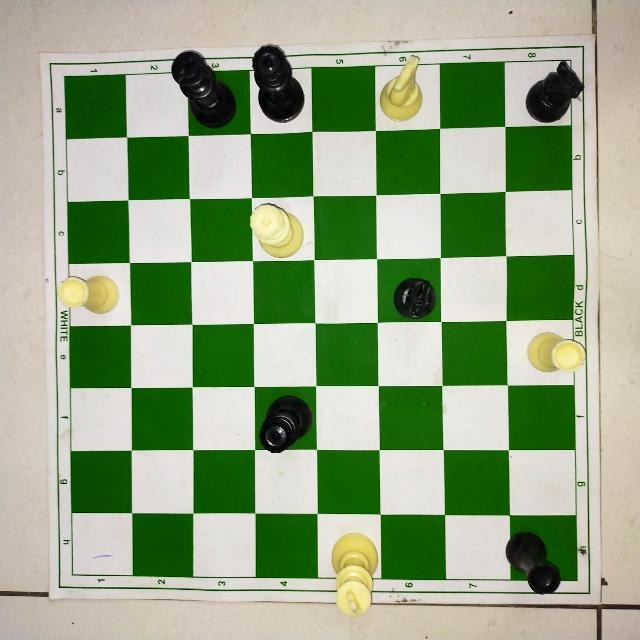black-king: (170, 48, 236, 132)
black-knight: (523, 59, 585, 125), (391, 274, 439, 324)
black-queen: (251, 40, 307, 123), (259, 392, 315, 458)
black-rook: (502, 531, 563, 595)
white-king: (327, 530, 383, 621)
white-knight: (374, 54, 431, 124)
white-queen: (246, 200, 305, 260)
white-rook: (55, 272, 122, 316), (525, 330, 587, 375)
